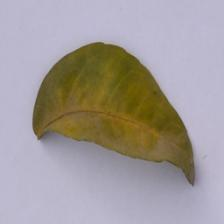greening: (29, 37, 199, 189)
